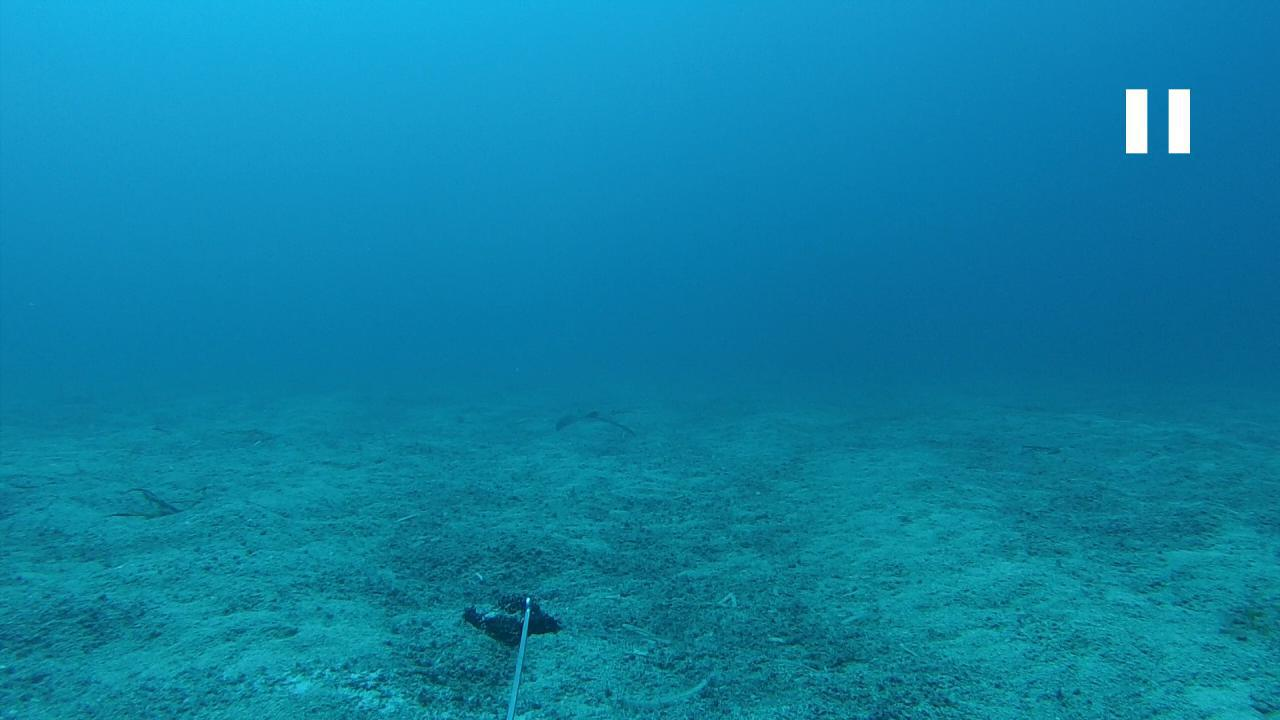dasyatis: (554, 408, 644, 439)
